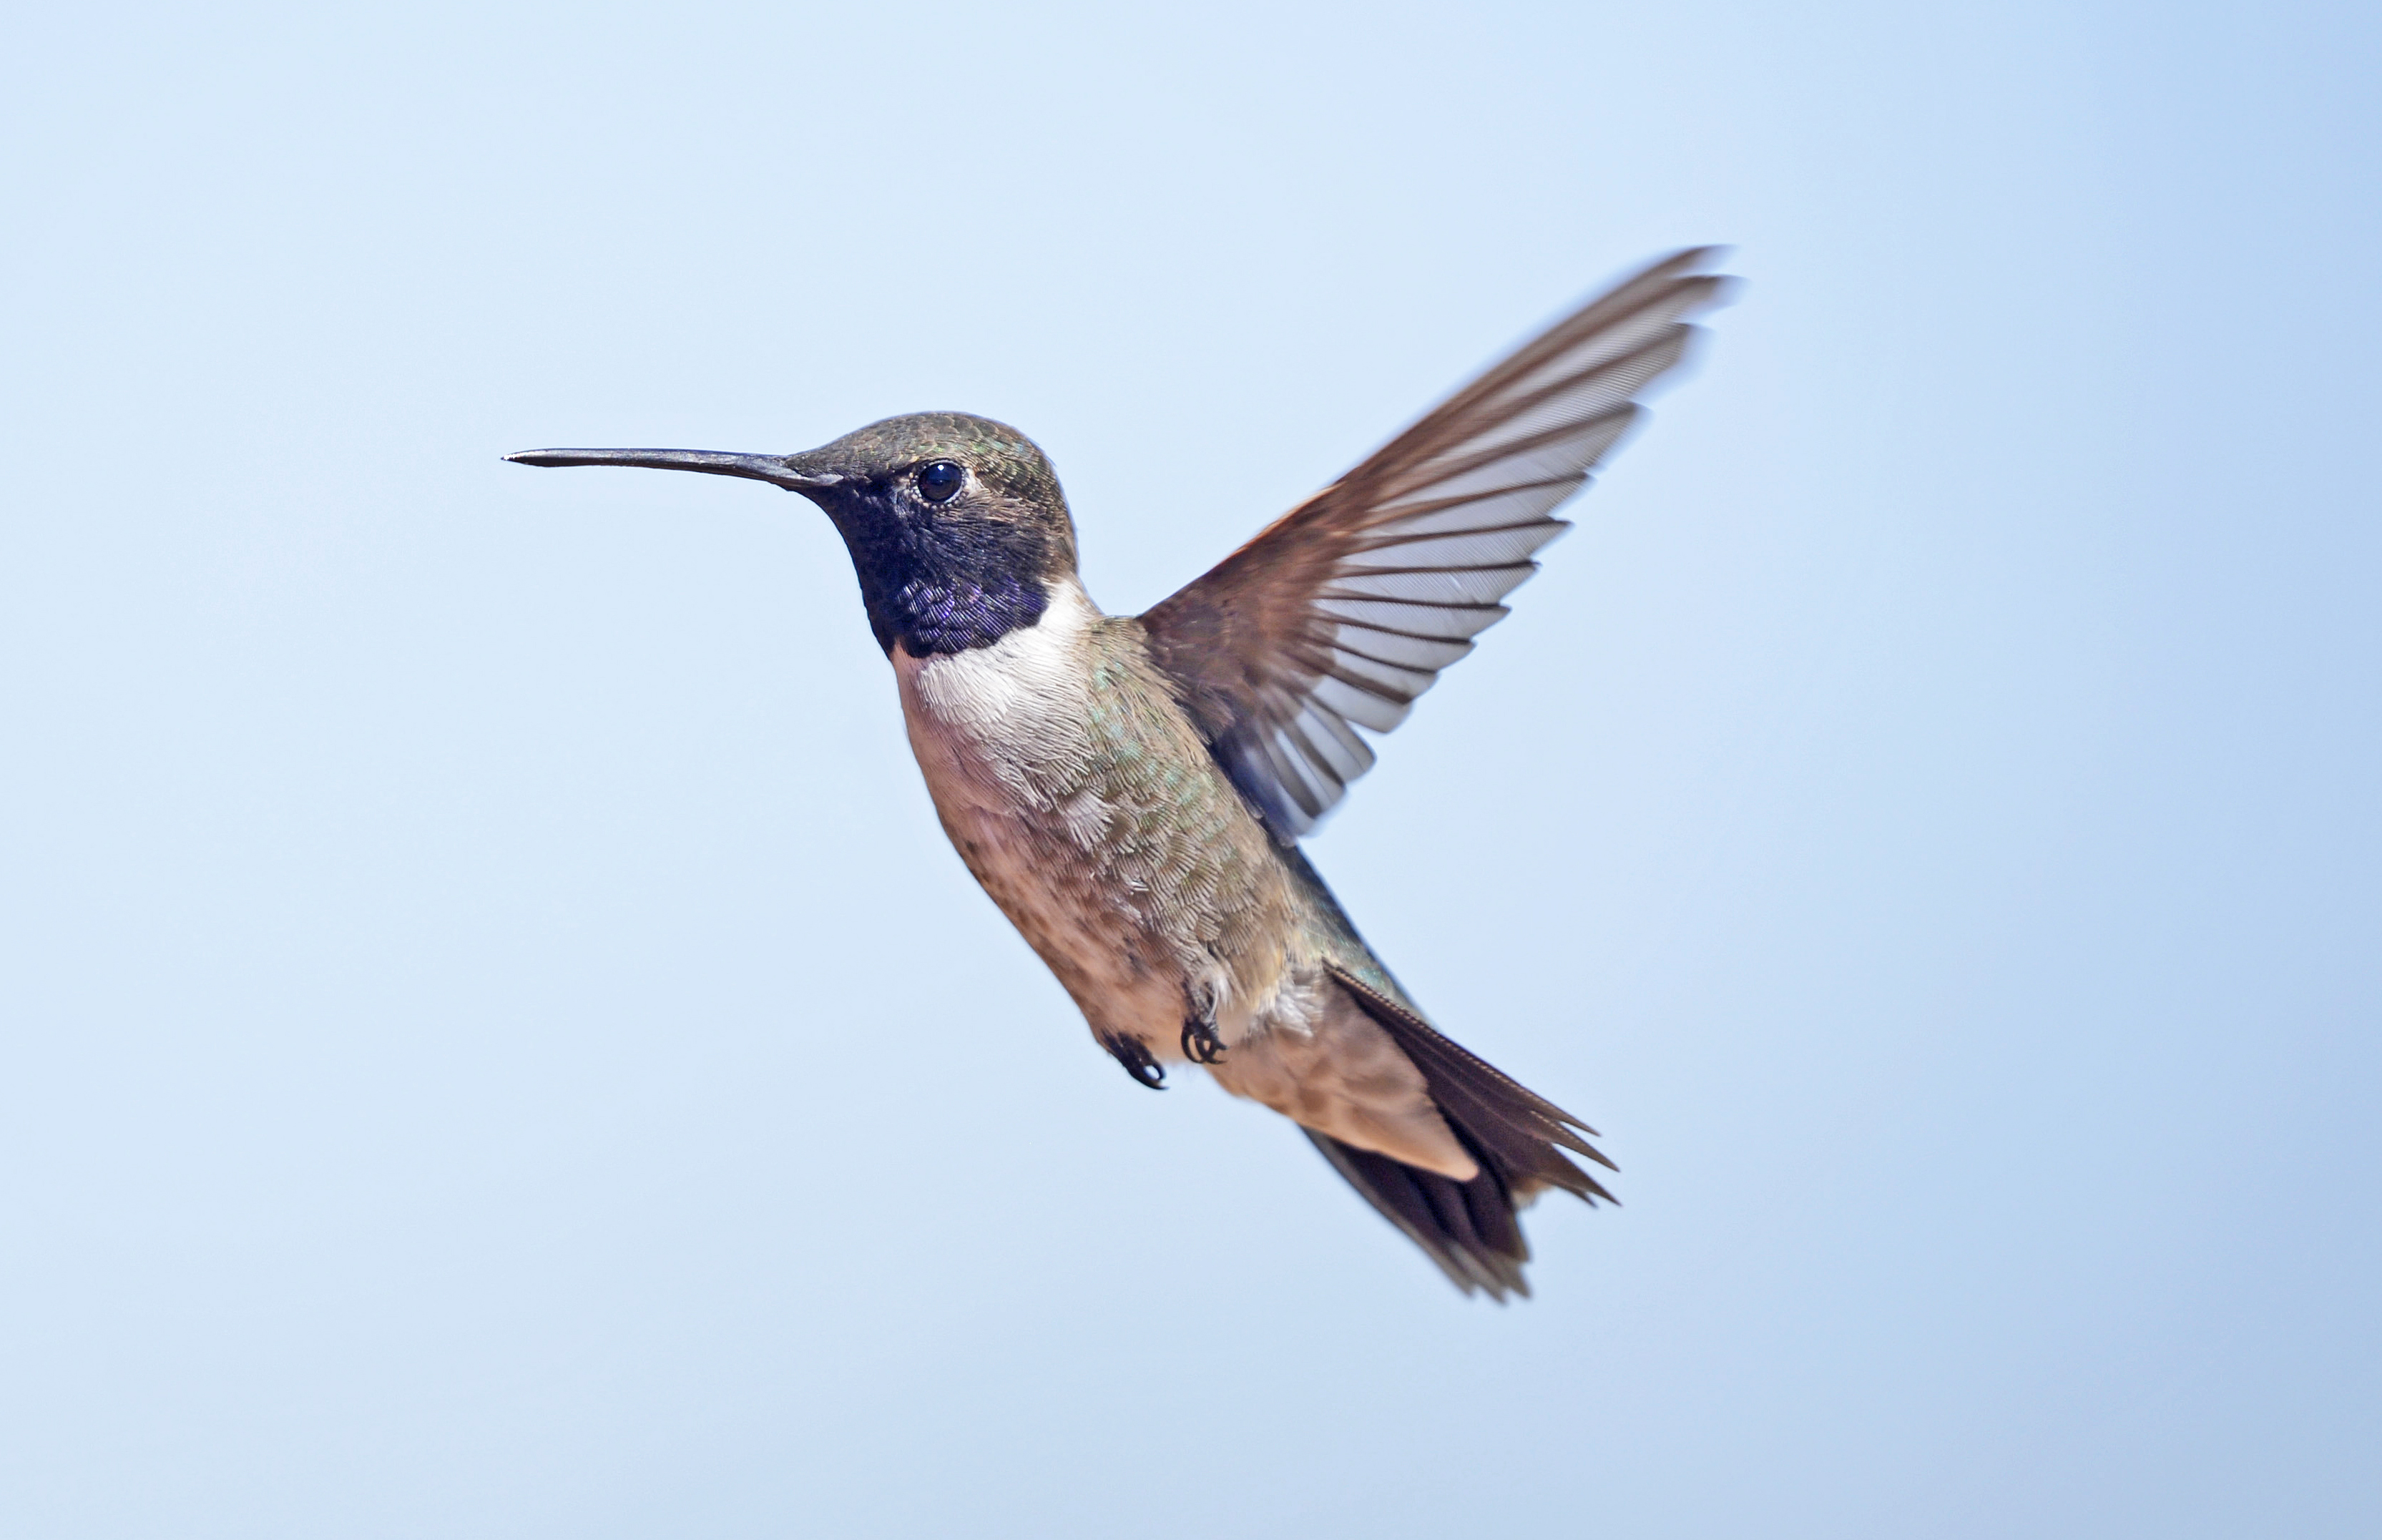archilochus alexandri: (502, 234, 1747, 1309)
